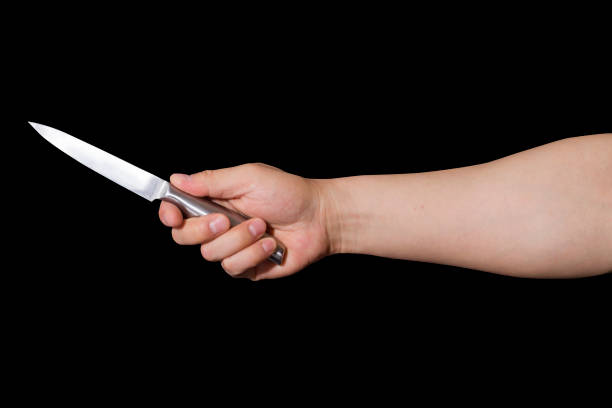knife: (24, 119, 289, 267)
